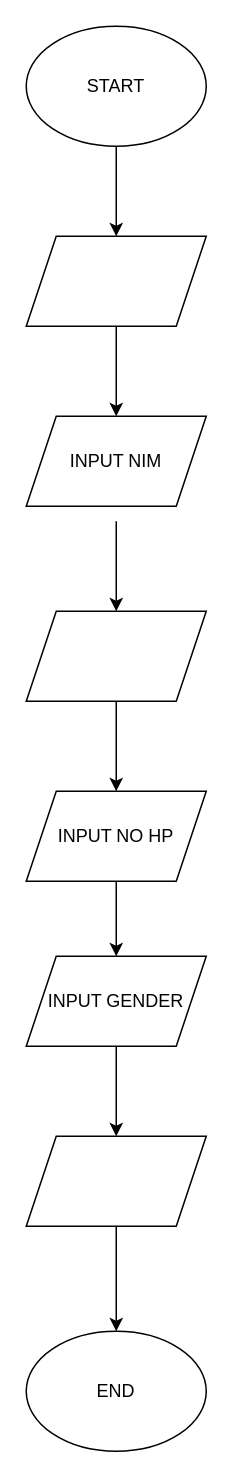
The diagram is 233 pixels wide and 1478 high, and some of its shapes have lost their labels. The shapes that lost their labels are listed below. From the top down, each one's centre as x and y in pixels, then its label:
pixel 115 280: INPUT NAMA
pixel 115 655: INPUT ALAMAT
pixel 115 1180: MENAMPILKAN BIODATA
